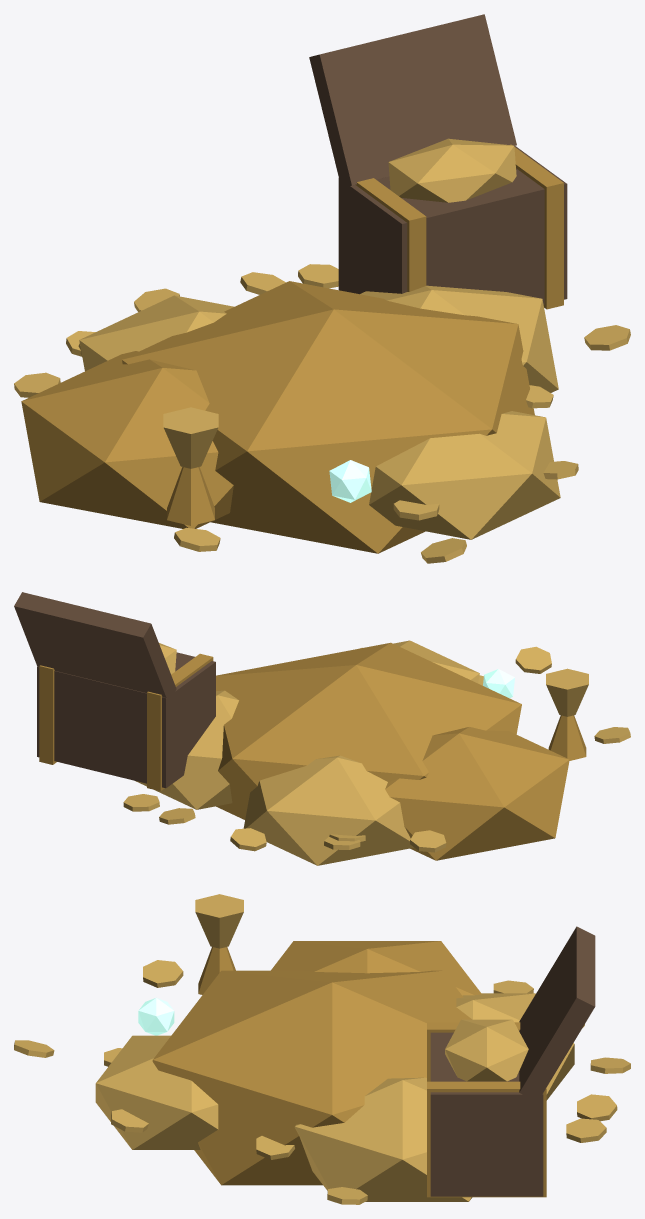
File: treasure_heap.glb
The picture shows the model from 3 angles, top to bottom: view 1: azimuth 30°, elevation 25°; view 2: azimuth 150°, elevation 25°; view 3: azimuth 270°, elevation 25°; orthographic projection. The views are drawn at different scales.
Visible parts, largest first — view 1: heap of coins, heap of coins.002, chest lid, chest body, heap of coins.003, chest gold, heap of coins.001, heap of coins.004, chest gilding.001, chest gilding, goblet cup, goblet foot (+6 smaller); view 2: heap of coins, heap of coins.002, chest body, heap of coins.004, chest lid, heap of coins.001, chest gilding, chest gilding.001, goblet cup, goblet foot, heap of coins.003, loose coin.006 (+6 smaller); view 3: heap of coins, chest body, heap of coins.001, heap of coins.003, chest lid, heap of coins.002, chest gold, heap of coins.004, chest gilding.001, goblet cup, crown jewel, loose coin.004 (+10 smaller).
Boxes of the visible parts, left/top/right/bottom form: heap of coins: left=122, top=281, right=534, bottom=553; heap of coins.002: left=21, top=351, right=233, bottom=528; chest lid: left=309, top=14, right=516, bottom=185; chest body: left=338, top=146, right=567, bottom=304; heap of coins.003: left=369, top=411, right=560, bottom=539; chest gold: left=388, top=138, right=516, bottom=202; heap of coins.001: left=360, top=285, right=558, bottom=392; heap of coins.004: left=79, top=295, right=234, bottom=371; chest gilding.001: left=510, top=144, right=563, bottom=309; chest gilding: left=355, top=178, right=426, bottom=291; goblet cup: left=163, top=407, right=218, bottom=468; goblet foot: left=167, top=467, right=214, bottom=525; heap of coins: left=216, top=642, right=521, bottom=819; heap of coins.002: left=385, top=727, right=569, bottom=860; chest body: left=37, top=652, right=215, bottom=788; heap of coins.004: left=243, top=755, right=413, bottom=865; chest lid: left=14, top=592, right=176, bottom=697; heap of coins.001: left=135, top=690, right=238, bottom=809; chest gilding: left=147, top=653, right=213, bottom=791; chest gilding.001: left=39, top=665, right=56, bottom=764; goblet cup: left=546, top=668, right=588, bottom=716; goblet foot: left=548, top=715, right=586, bottom=760; heap of coins.003: left=393, top=640, right=479, bottom=683; loose coin.006: left=515, top=646, right=551, bottom=673; heap of coins: left=152, top=970, right=471, bottom=1185; chest body: left=430, top=1032, right=543, bottom=1196; heap of coins.001: left=294, top=1077, right=472, bottom=1201; heap of coins.003: left=95, top=1035, right=218, bottom=1149; chest lid: left=519, top=926, right=595, bottom=1100; heap of coins.002: left=271, top=941, right=481, bottom=995; chest gold: left=445, top=1019, right=528, bottom=1081; heap of coins.004: left=456, top=993, right=574, bottom=1100; chest gilding.001: left=427, top=1081, right=546, bottom=1197; goblet cup: left=195, top=894, right=243, bottom=948; crown jewel: left=138, top=997, right=174, bottom=1035; loose coin.004: left=143, top=960, right=183, bottom=987.
Size of the model in its own units: 0.8386 by 0.4718 by 0.8772.
